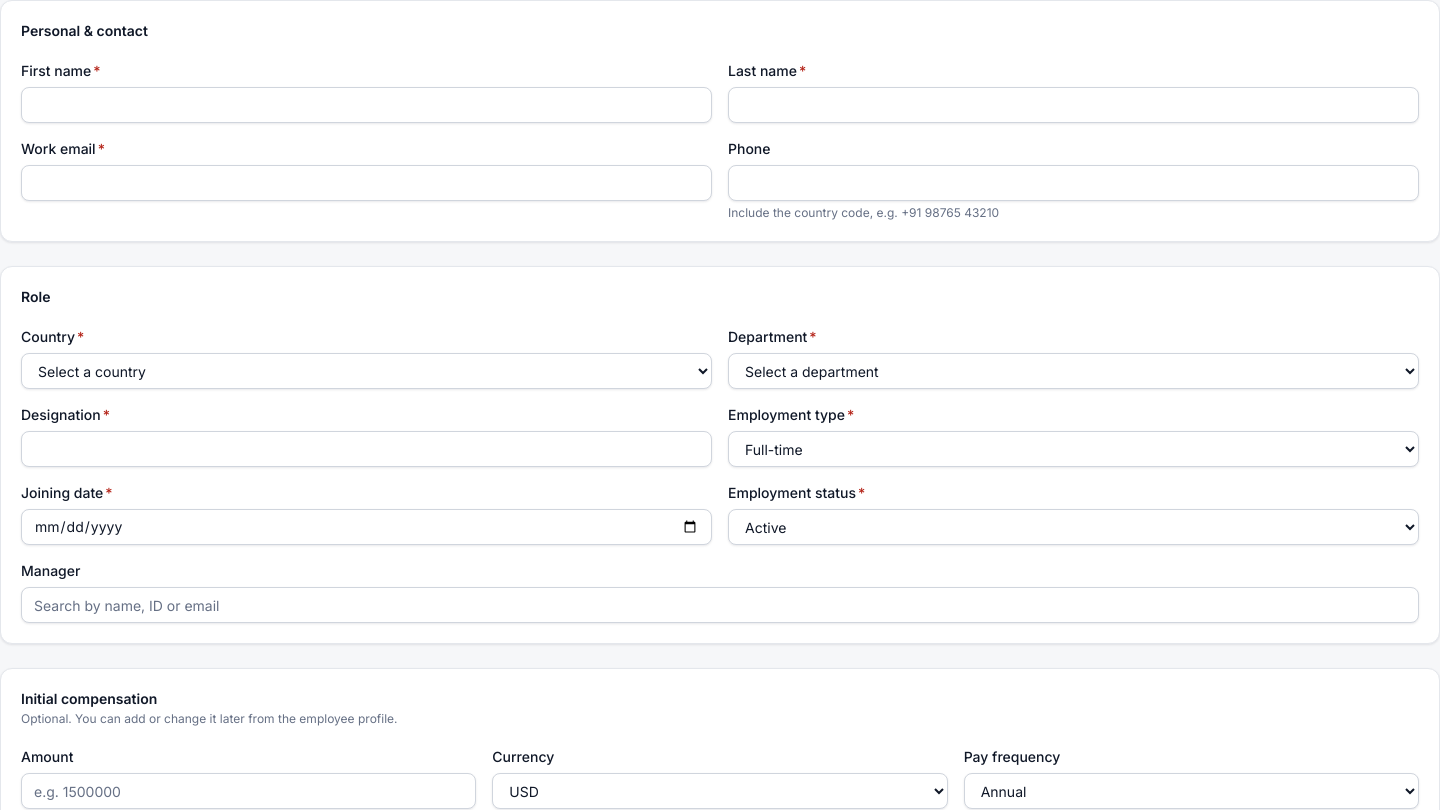
Test case: EmployeeForm validation › defaults the pay currency from the selected country
Select "India" in the dropdown labelled "Country*" at (366, 371), box x1=21 y1=353 x2=712 y2=389
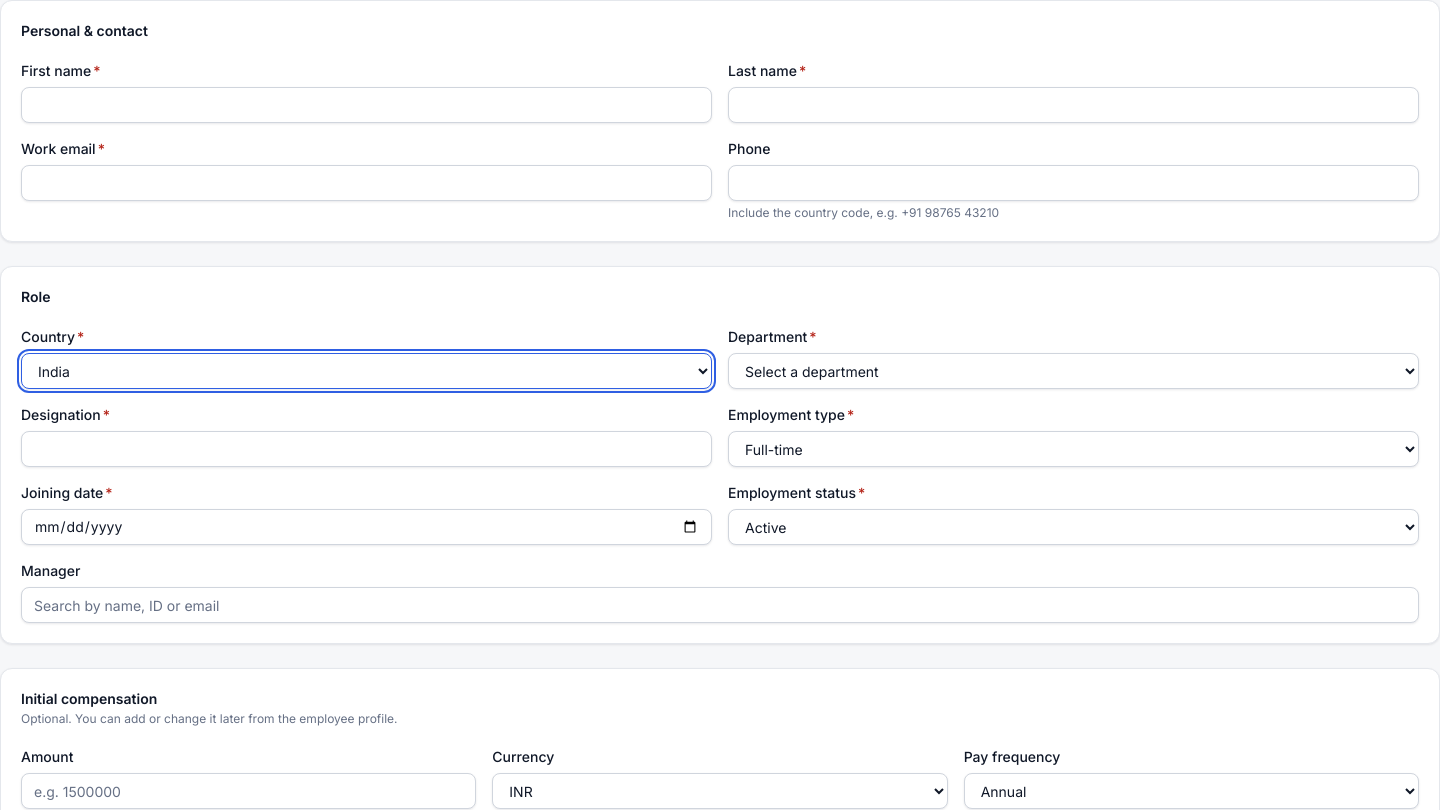
Expected: the dropdown labelled "Currency" shows "INR", x1=492 y1=773 x2=948 y2=809
